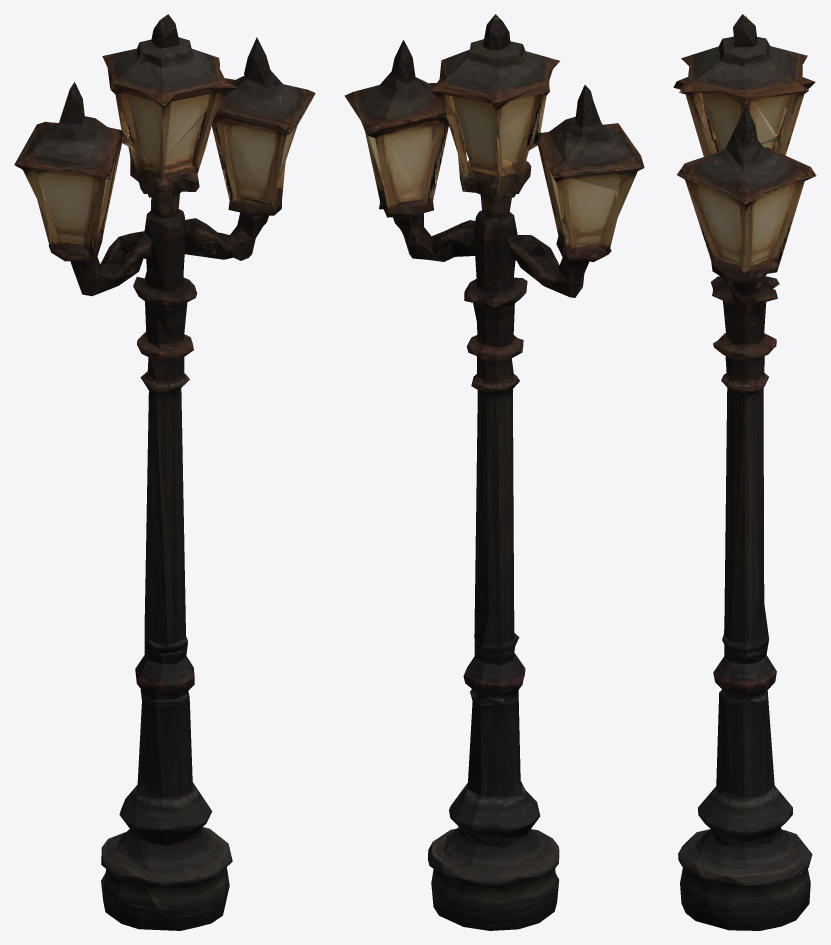
3 renders of one model, left to right at view 1: azimuth 30°, elevation 25°; view 2: azimuth 150°, elevation 25°; view 3: azimuth 270°, elevation 25°, orthographic.
Visible parts, largest first — view 1: world; view 2: world; view 3: world.
Part boxes in pixels (bbox=[...]): world: bbox=[14, 14, 315, 930]; world: bbox=[344, 14, 644, 930]; world: bbox=[673, 14, 816, 930].
Bounding box in the file's own units: 0.3535 × 0.9999 × 0.1456.
Materials: 1 (1 with a texture image).
